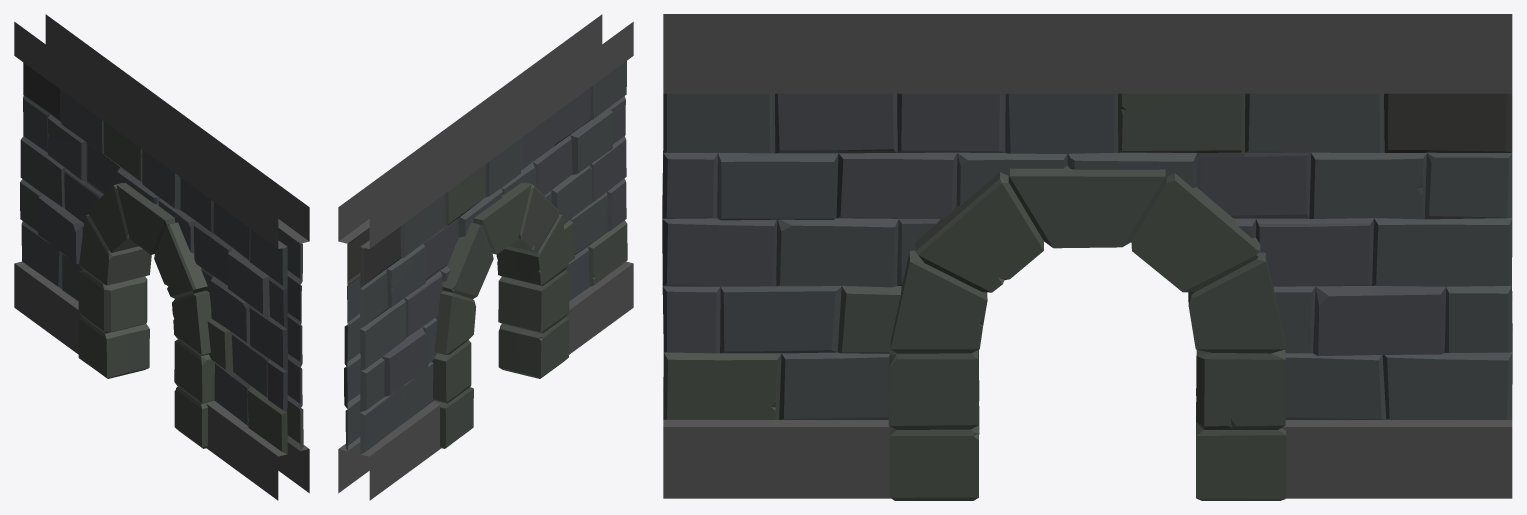
File: Doorway_1.fbx
3 views of the same model, side by side, from view 1: azimuth 30°, elevation 25°; view 2: azimuth 150°, elevation 25°; view 3: azimuth 270°, elevation 25° (orthographic). The views are drawn at different scales.
Parts seen in each view (by area): view 1: Doorway; view 2: Doorway; view 3: Doorway.
Part boxes in pixels (x1,y1,x2,y2): Doorway: (14,14,309,500); Doorway: (338,14,633,500); Doorway: (662,14,1512,500).
Bounding box in the file's own units: 76.47 × 478 × 801.
